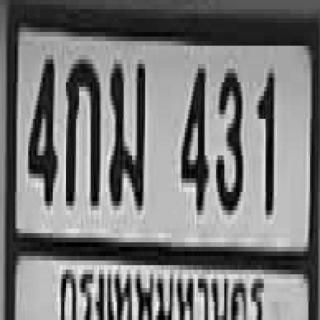A01: (64, 55, 99, 201)
A33: (107, 57, 143, 203)
N01: (256, 66, 274, 213)
N03: (214, 64, 241, 210)
N04: (26, 50, 56, 201), (180, 62, 206, 208)
